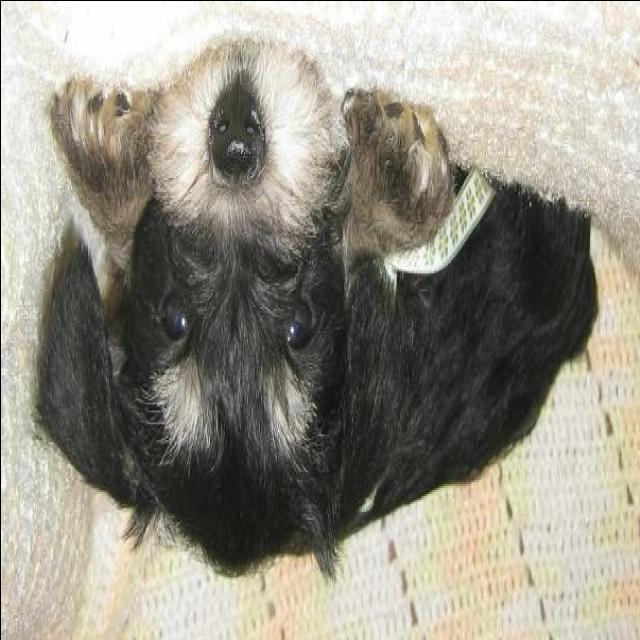standard_schnauzer: (20, 34, 598, 592)
